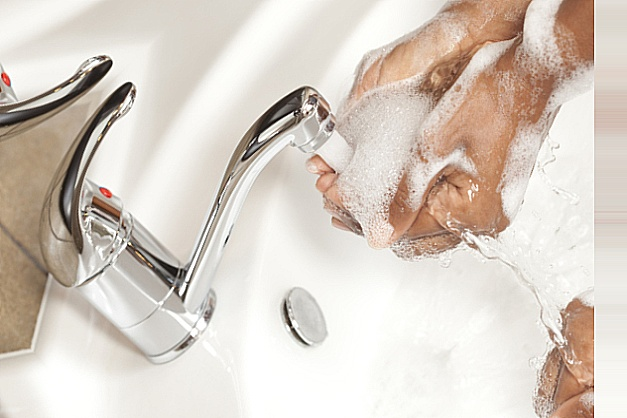washing hand: (41, 0, 626, 417)
